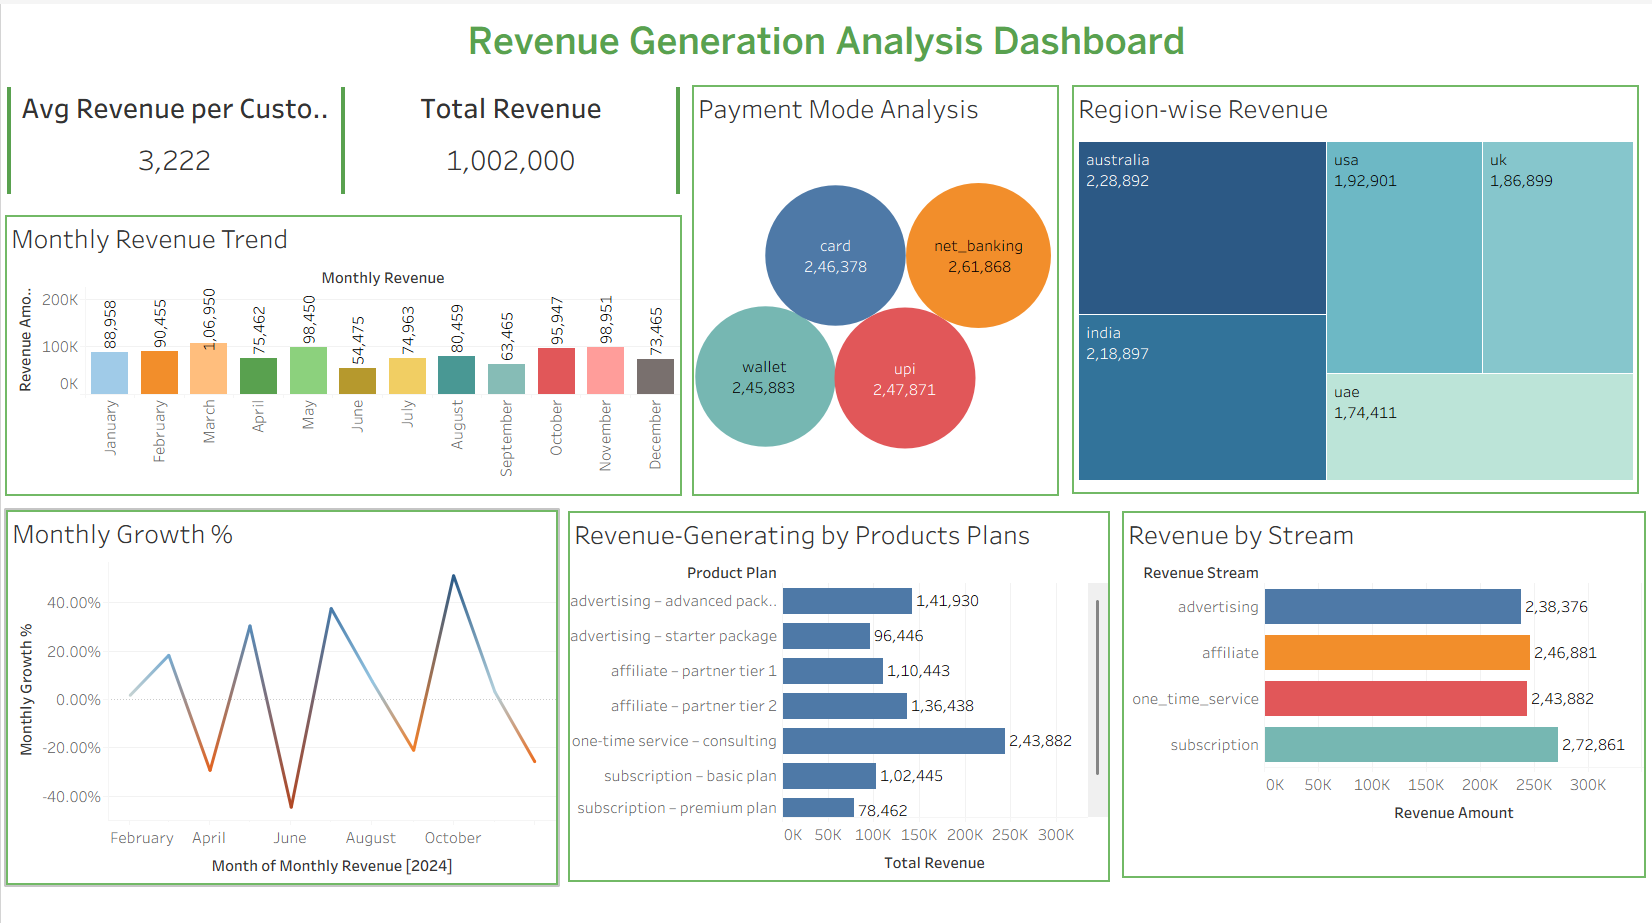

This screenshot's page, from the dashboard's own definition file:
{"tool":"tableau","page":{"name":"Dashboard 1","canvas":[1000,1000],"units":"permille","ordinal":0},"visuals":[{"type":"text","box":[2.4,6.5,991.6,68.4]},{"type":"worksheet","title":"KPIs","mark":"Automatic","box":[2.4,88,409.2,127]},{"type":"worksheet","title":"Payment Mode Analysis","mark":"Circle","box":[417,88,221.5,446.2]},{"type":"worksheet","title":"Region-wise Revenue","mark":"Automatic","box":[646.4,88,342.2,444.1]},{"type":"worksheet","title":"Monthly Revenue Trend","mark":"Bar","rows":["Revenue_Amount"],"cols":["Calculation_1033838534823937"],"box":[2.4,229.1,408.6,305.1]},{"type":"worksheet","title":"Monthly Growth %","mark":"Line","rows":["Calculation_1033838536622082"],"cols":["Calculation_1033838534823937"],"box":[3,549.4,333.1,407.2]},{"type":"worksheet","title":"Revenue-Generating by Products Plans","mark":"Automatic","rows":["Product_Plan"],"cols":["Calculation_1033838524506112"],"box":[342.2,550.5,327.1,402.8]},{"type":"worksheet","title":"Revenue by Stream","mark":"Automatic","rows":["Revenue_Stream"],"cols":["Revenue_Amount"],"box":[676.5,550.5,316.2,398.5]}]}

Visuals, with their boxes on the dashboard's canvas, which has no fixed pixel size, in thousandths of its width and height (x1, y1, x2, y2). These are canvas units, not pixel positions in the 1652x923 screenshot, which may show the page scaled, cropped or inside an application window:
text: box(2, 6, 994, 75)
"KPIs" worksheet: box(2, 88, 412, 215)
"Payment Mode Analysis" worksheet (Circle marks): box(417, 88, 638, 534)
"Region-wise Revenue" worksheet: box(646, 88, 989, 532)
"Monthly Revenue Trend" worksheet (Bar marks): box(2, 229, 411, 534)
"Monthly Growth %" worksheet (Line marks): box(3, 549, 336, 957)
"Revenue-Generating by Products Plans" worksheet: box(342, 550, 669, 953)
"Revenue by Stream" worksheet: box(676, 550, 993, 949)
